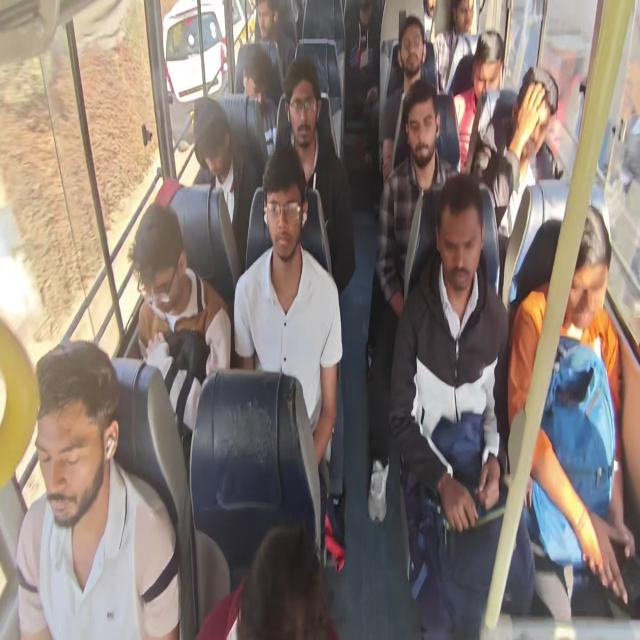person: (9, 3, 635, 638), (388, 172, 536, 638), (507, 202, 635, 618), (15, 340, 181, 638), (232, 143, 344, 561), (366, 79, 460, 522), (128, 201, 232, 451), (273, 58, 356, 294), (196, 523, 339, 639), (192, 95, 258, 272), (498, 66, 560, 238), (379, 15, 439, 184), (452, 29, 504, 178), (432, 0, 479, 95), (241, 45, 278, 160), (254, 0, 295, 102)
